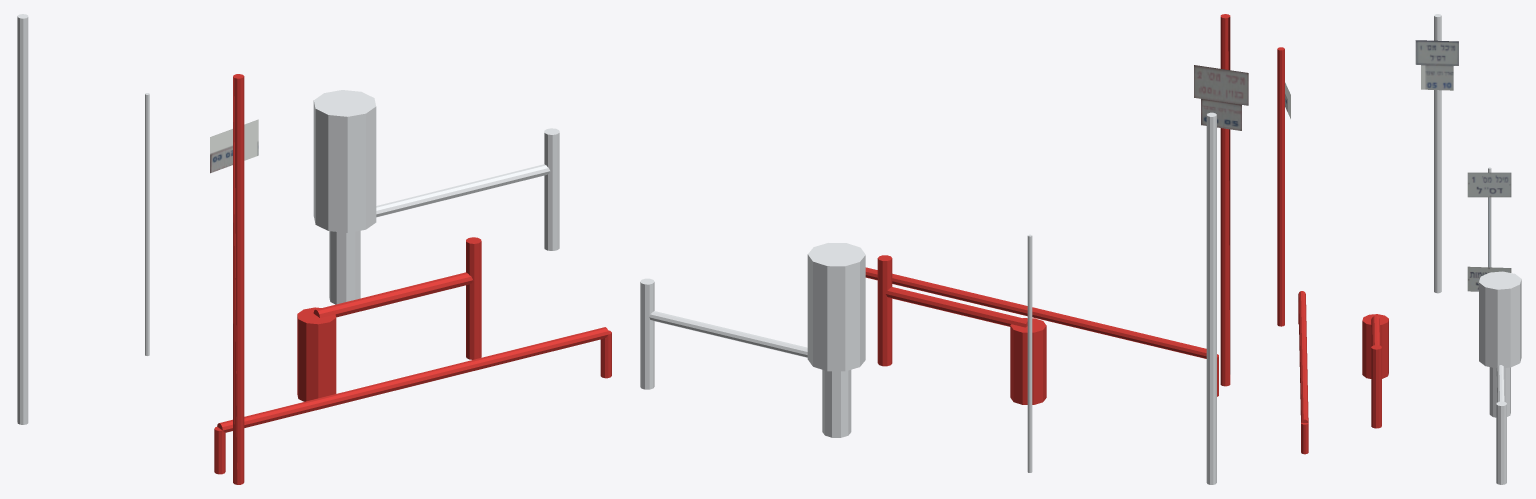
The model's file is FuelPipes_LOD0.gltf.
The picture shows the model from 3 angles, left to right: view 1: azimuth 30°, elevation 25°; view 2: azimuth 150°, elevation 25°; view 3: azimuth 270°, elevation 25°; orthographic projection. The views are drawn at different scales.
Visible parts, largest first — view 1: node3, node2, node1; view 2: node3, node2, node1; view 3: node3, node2, node1.
Boxes of the visible parts, left/top/right/bottom form: node3: left=17, top=14, right=559, bottom=424; node2: left=214, top=74, right=611, bottom=484; node1: left=210, top=119, right=258, bottom=173; node3: left=640, top=112, right=1216, bottom=484; node2: left=865, top=14, right=1230, bottom=404; node1: left=1194, top=65, right=1248, bottom=130; node3: left=1434, top=14, right=1521, bottom=484; node2: left=1277, top=47, right=1388, bottom=454; node1: left=1285, top=40, right=1511, bottom=291.
Bounding box in the file's own units: 4.24 × 2.8 × 2.25.
